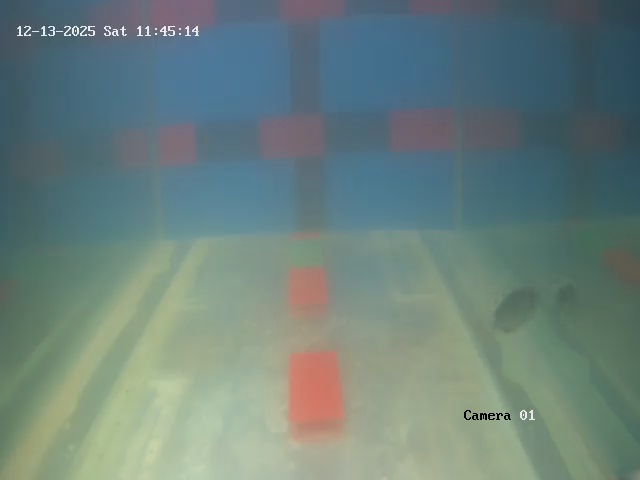fish: (487, 274, 549, 337)
